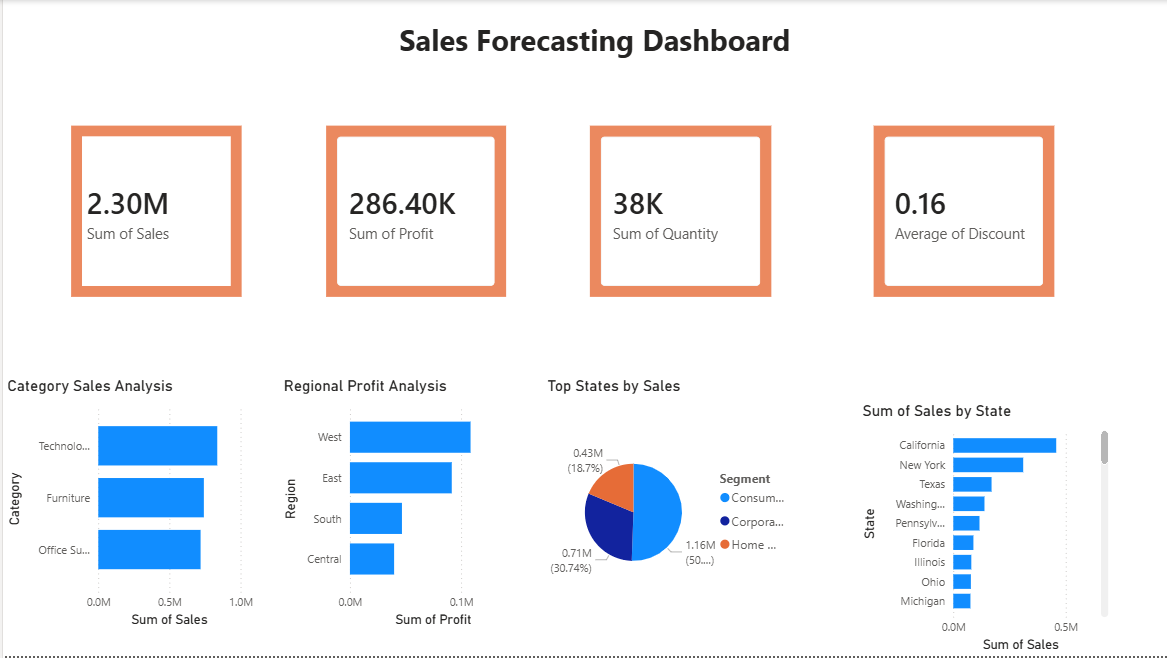

Layout of this report page (visuals, bound fields, positions):
{"tool":"powerbi","page":{"name":"Page 1","canvas":[1280,720],"ordinal":0},"visuals":[{"type":"cardVisual","fields":{"Data":["Sum(SampleSuperstore.Sales)"]},"box":[70,133.1,197.6,199],"z":0},{"type":"cardVisual","fields":{"Data":["Sum(SampleSuperstore.Profit)"]},"box":[349.9,133.1,207.2,199],"z":1},{"type":"cardVisual","fields":{"Data":["Sum(SampleSuperstore.Quantity)"]},"box":[639.5,133.1,209.9,199],"z":2},{"type":"cardVisual","fields":{"Data":["Avg(SampleSuperstore.Discount)"]},"box":[950.9,133.1,208.6,199],"z":3},{"type":"clusteredBarChart","title":"Category Sales Analysis","fields":{"Category":["SampleSuperstore.Category"],"Y":["Sum(SampleSuperstore.Sales)"]},"box":[0,413,280,280],"z":4},{"type":"barChart","title":"Regional Profit Analysis","fields":{"Category":["SampleSuperstore.Region"],"Y":["Sum(SampleSuperstore.Profit)"]},"box":[303,413,280,280],"z":5},{"type":"pieChart","title":"Top States by Sales","fields":{"Category":["SampleSuperstore.Segment"],"Y":["Sum(SampleSuperstore.Sales)"]},"box":[592.8,413,279.9,279.9],"z":6},{"type":"barChart","fields":{"Category":["SampleSuperstore.State"],"Y":["Sum(SampleSuperstore.Sales)"]},"box":[938.6,440.5,279.9,279.9],"z":7},{"type":"textbox","box":[100.2,16.5,1099.1,78.2],"z":8}]}

Visuals, with their boxes in screenshot pixels (x1, y1, x2, y2), scaled from the page's 1280x720 canvas onto the 1167x658 screenshot:
cardVisual - Sum(SampleSuperstore.Sales): Rect(64, 122, 244, 304)
cardVisual - Sum(SampleSuperstore.Profit): Rect(319, 122, 508, 304)
cardVisual - Sum(SampleSuperstore.Quantity): Rect(583, 122, 774, 304)
cardVisual - Avg(SampleSuperstore.Discount): Rect(867, 122, 1057, 304)
"Category Sales Analysis" clusteredBarChart: Rect(0, 377, 255, 633)
"Regional Profit Analysis" barChart: Rect(276, 377, 532, 633)
"Top States by Sales" pieChart: Rect(540, 377, 796, 633)
barChart - SampleSuperstore.State x Sum(SampleSuperstore.Sales): Rect(856, 403, 1111, 657)
textbox: Rect(91, 15, 1093, 87)
